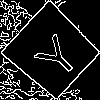Y: (26, 26, 83, 83)
